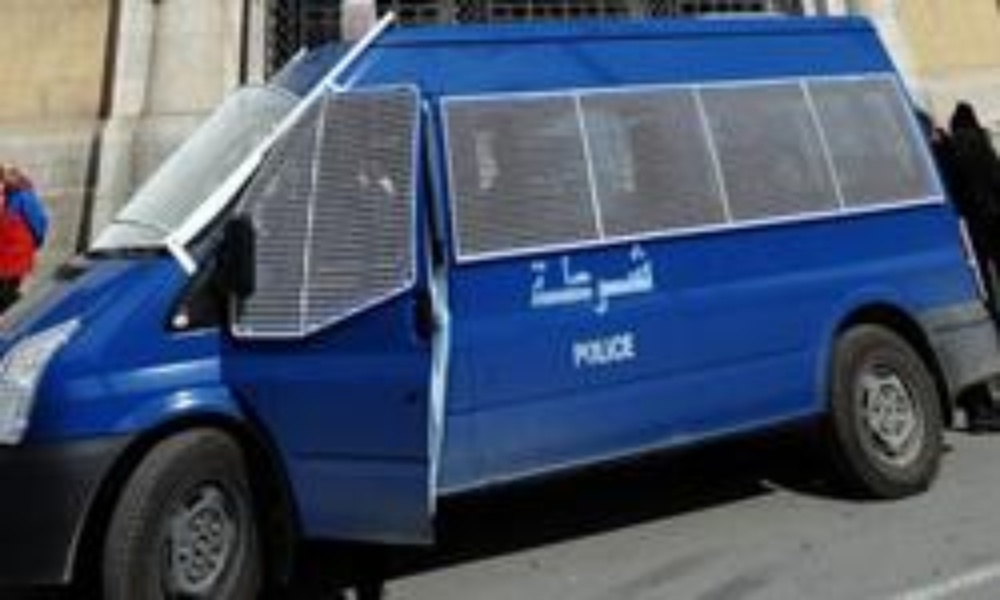text: (641, 237, 657, 325), (529, 237, 544, 325), (545, 237, 560, 325), (561, 237, 576, 325), (577, 237, 592, 325), (593, 237, 608, 325), (609, 237, 624, 325), (625, 237, 640, 325), (577, 325, 592, 373), (593, 325, 608, 373), (609, 325, 624, 373), (625, 325, 637, 373), (569, 325, 576, 373), (525, 237, 528, 325)
